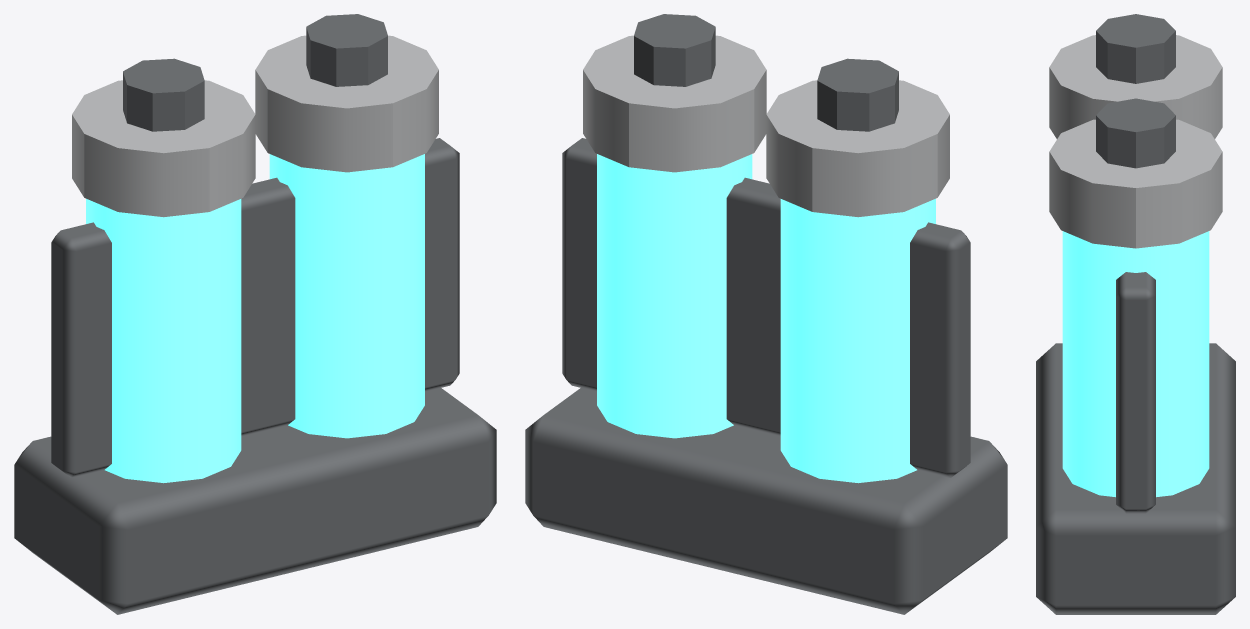
The model's file is ammo_pistol.glb.
3 renders of one model, left to right at view 1: azimuth 30°, elevation 25°; view 2: azimuth 150°, elevation 25°; view 3: azimuth 270°, elevation 25°, orthographic. The views are drawn at different scales.
Visible parts, largest first — view 1: ammo_pistol; view 2: ammo_pistol; view 3: ammo_pistol.
Boxes of the visible parts, x1,y1,x2,y2 form: ammo_pistol: (14, 14, 496, 614); ammo_pistol: (525, 14, 1007, 614); ammo_pistol: (1036, 14, 1235, 614).
Size of the model in its own units: 0.13 by 0.152 by 0.06.
